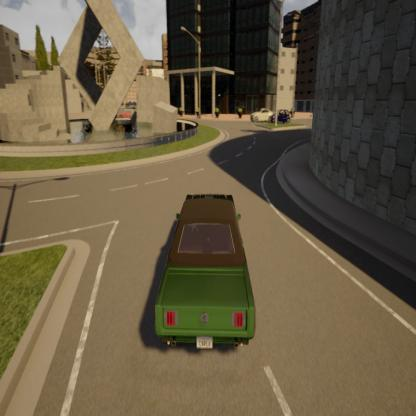Cars: (142, 176, 260, 370), (269, 107, 292, 126), (250, 106, 274, 122)
